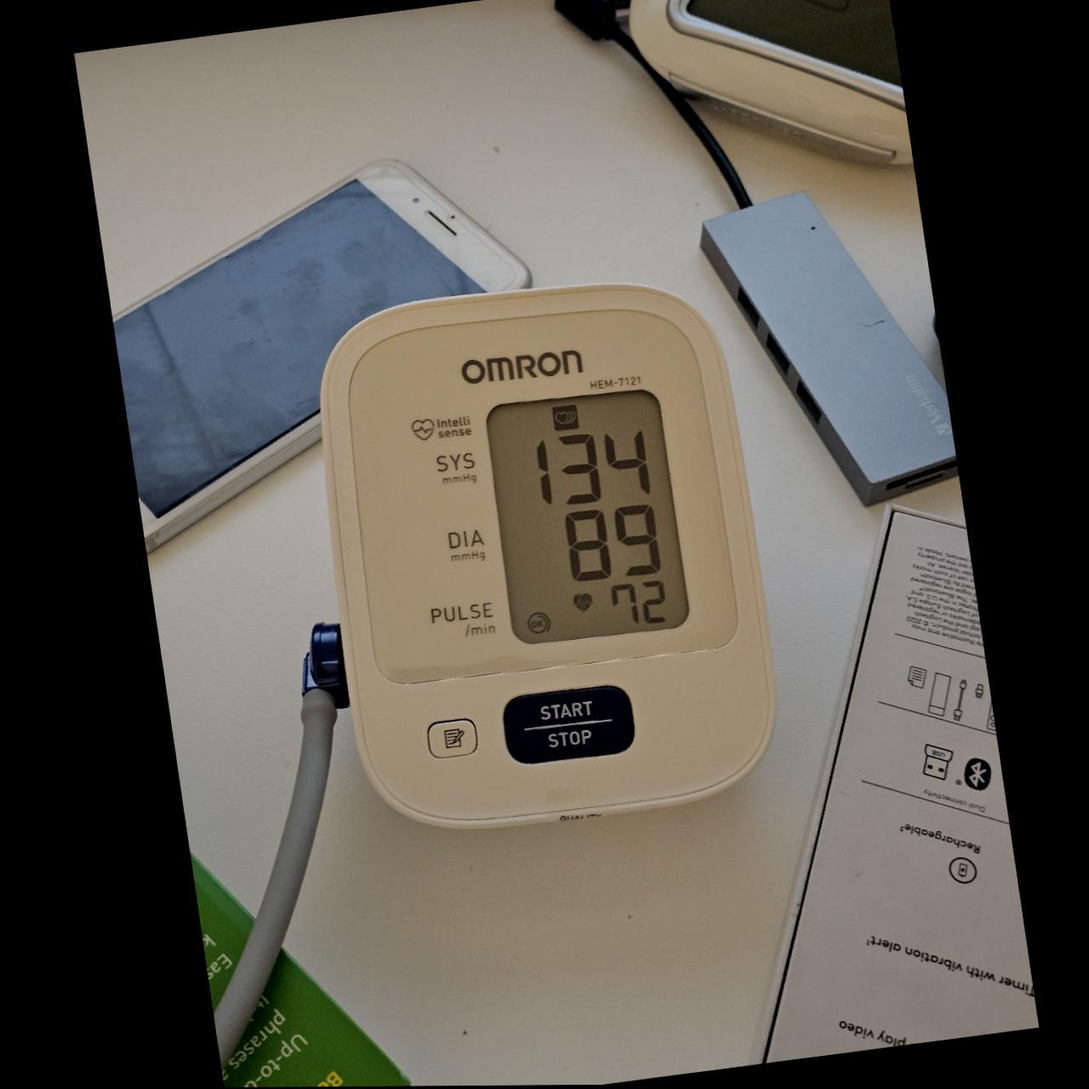lcd display: (478, 382, 695, 650)
